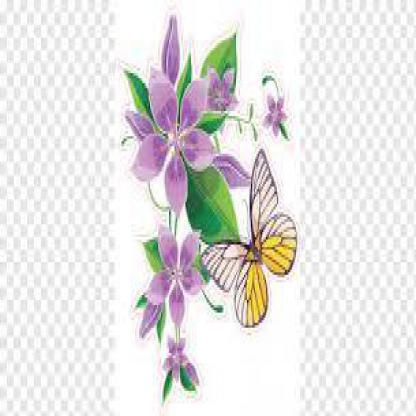Kenanga: (129, 101, 286, 337)
